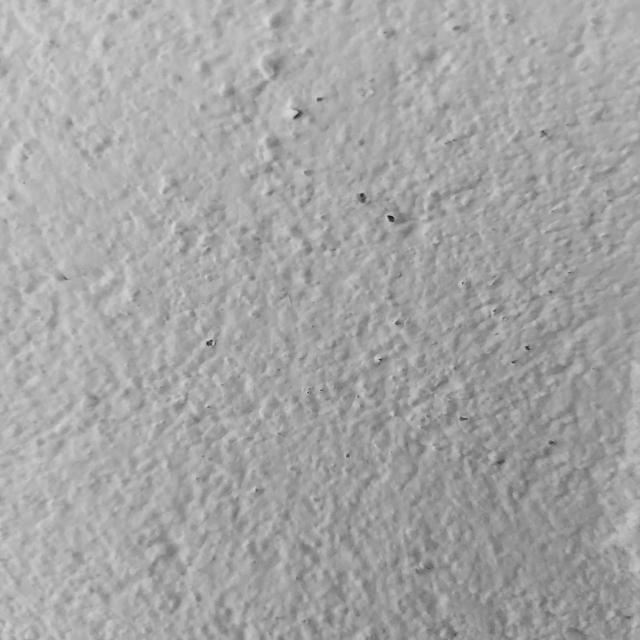rough and patchy surface: (14, 5, 637, 634)
